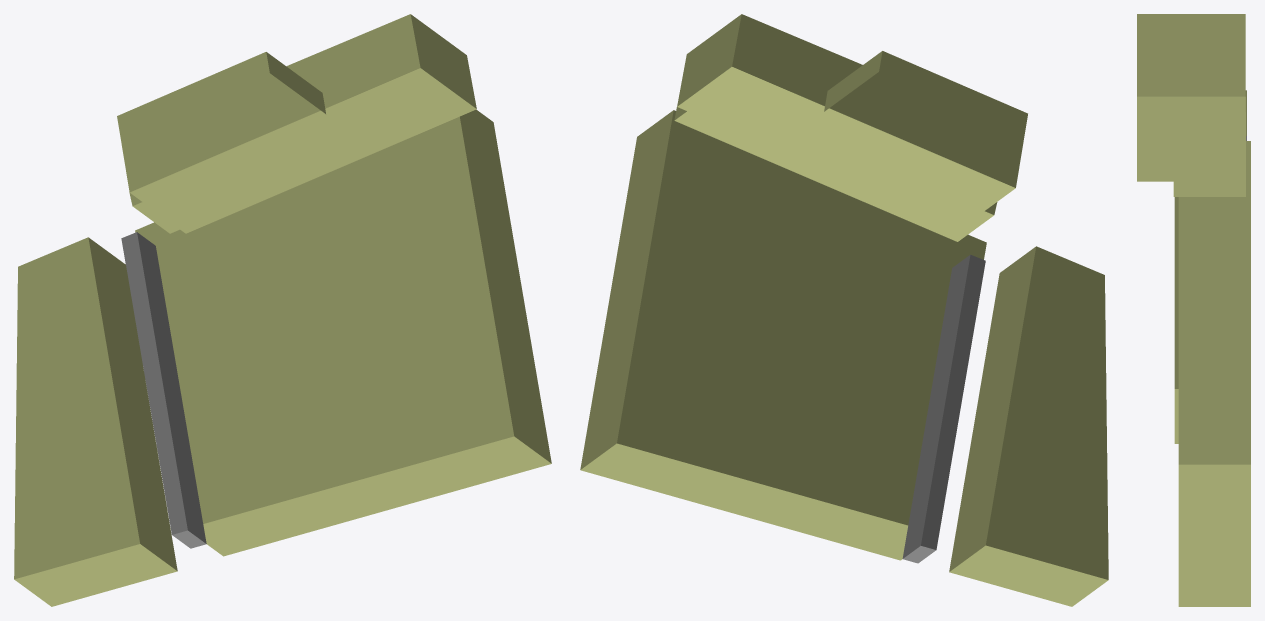
3 renders of one model, left to right at view 1: azimuth 30°, elevation 25°; view 2: azimuth 150°, elevation 25°; view 3: azimuth 270°, elevation 25°, orthographic. The views are drawn at different scales.
Parts seen in each view (by area): view 1: 0_2_1_0_0_0_3_3_0; view 2: 0_2_1_0_0_0_3_3_0; view 3: 0_2_1_0_0_0_3_3_0.
Boxes of the visible parts, x1,y1,x2,y2 form: 0_2_1_0_0_0_3_3_0: [14, 14, 551, 606]; 0_2_1_0_0_0_3_3_0: [580, 14, 1108, 606]; 0_2_1_0_0_0_3_3_0: [1137, 14, 1250, 606].
Size of the model in its own units: 46.29 by 41.36 by 9.44.
